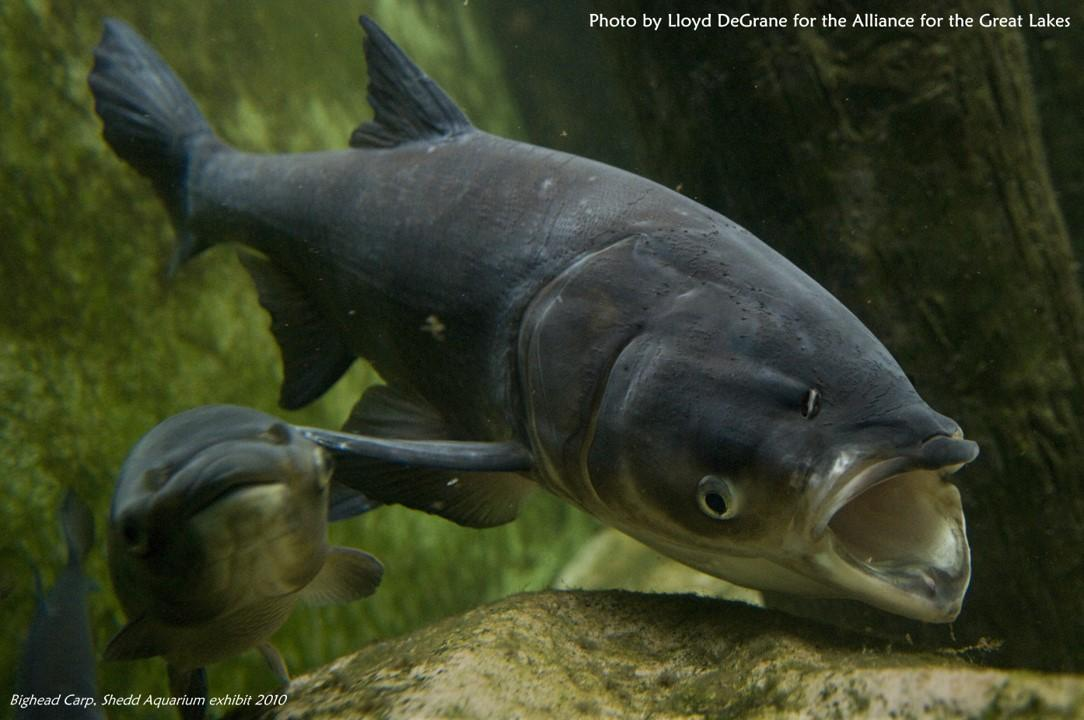Big Head Carp: (69, 396, 393, 712)
Jaguar Gapote: (89, 10, 975, 620)
